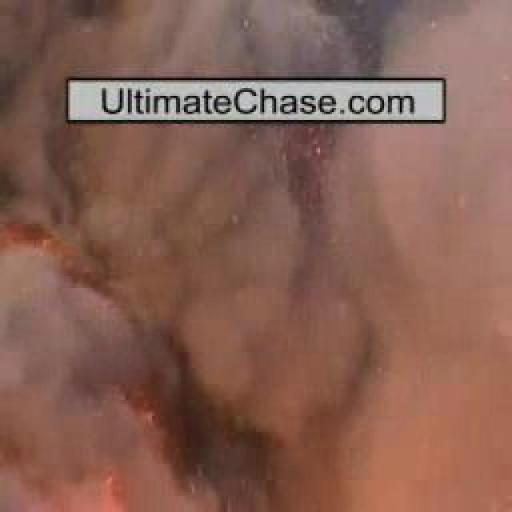smoke: (0, 363, 218, 512), (0, 201, 82, 309)
